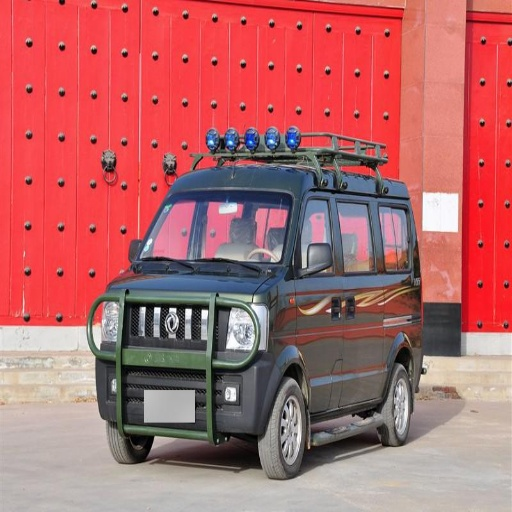back_left_door: (336, 198, 383, 398)
back_left_light: (87, 299, 123, 362)
front_bumper: (247, 353, 277, 426)
front_glass: (179, 188, 294, 269)
front_left_door: (293, 191, 352, 407)
front_left_light: (224, 301, 262, 361)
trunk: (121, 281, 209, 411), (380, 279, 421, 360)
